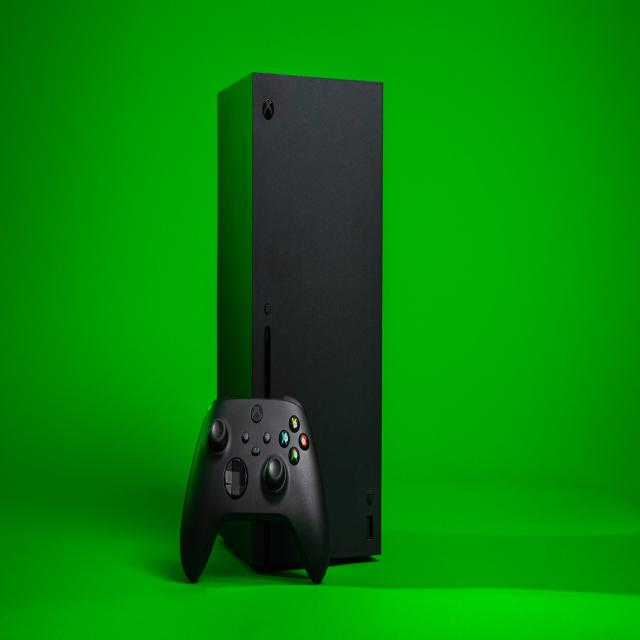Plastic: (216, 73, 384, 573), (180, 398, 332, 585), (217, 516, 308, 579)
